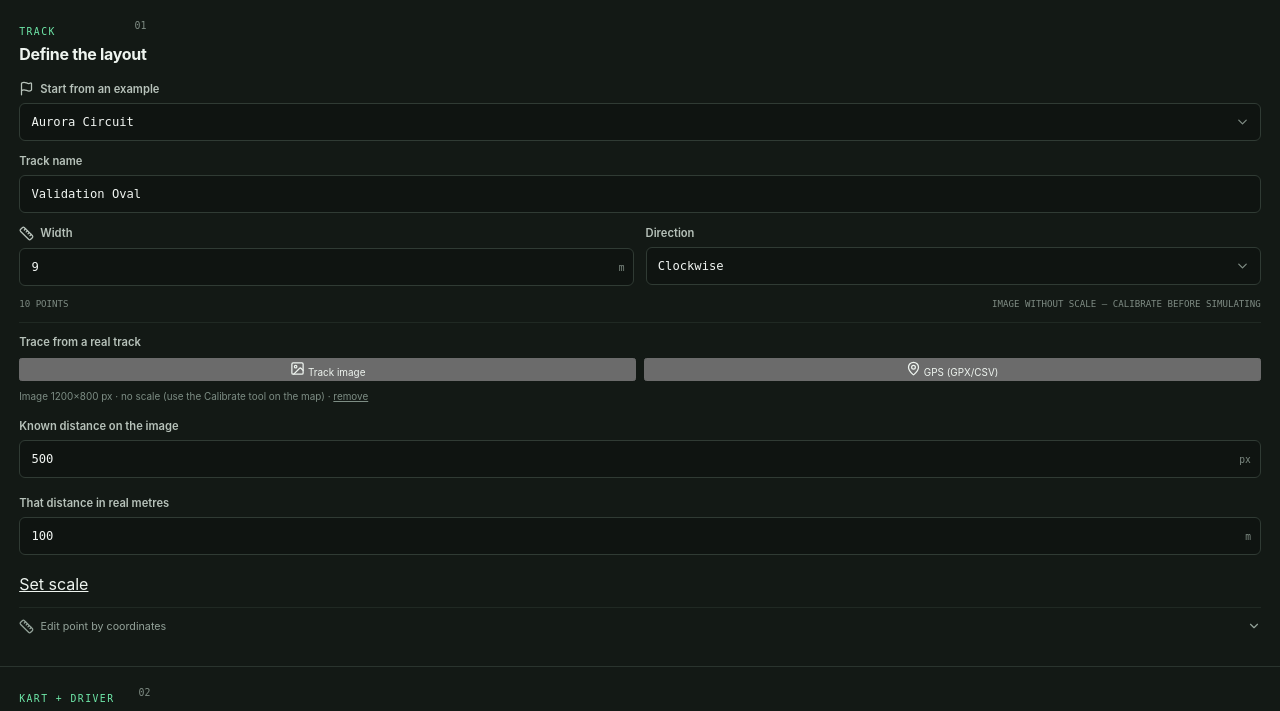
Test: ControlPanel accessibility › surfaces the reason a calibration was rejected
Click the button "Set scale".
click(54, 584)  # box x1=19 y1=574 x2=88 y2=594
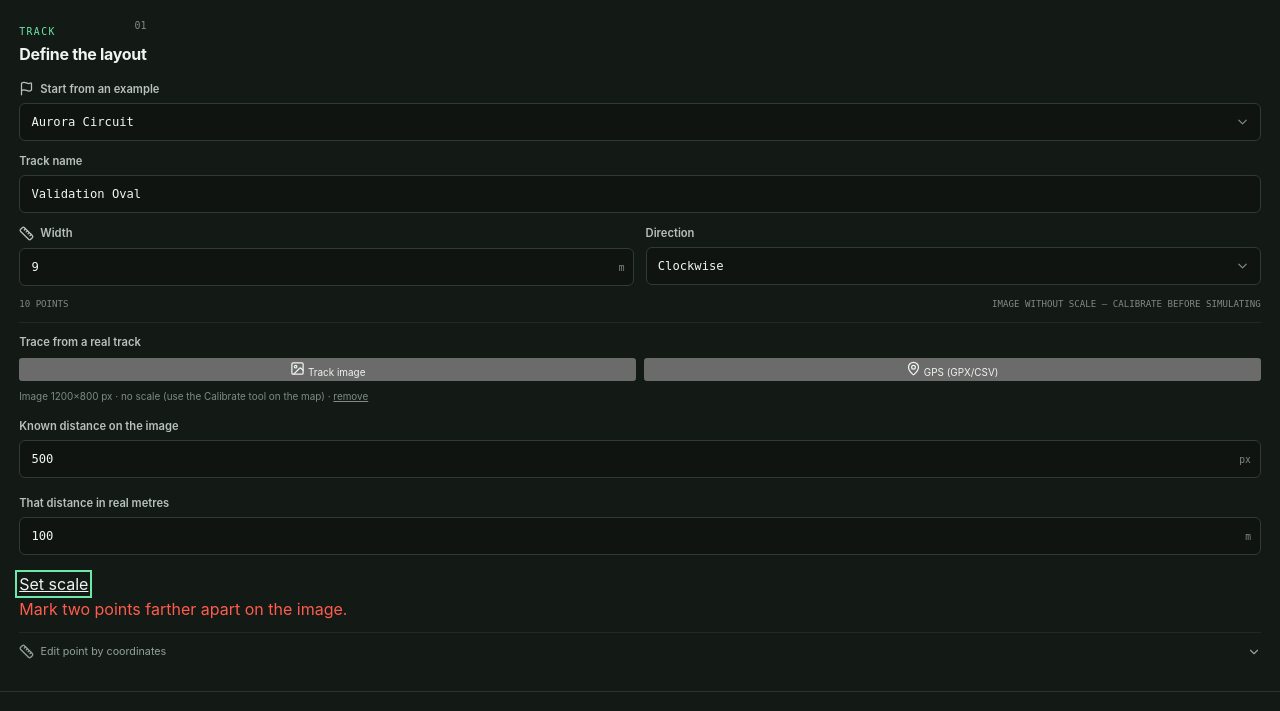
Expected: the message does not show "imports.", x1=19 y1=599 x2=347 y2=619
Expected: the message shows "farther apart", x1=19 y1=599 x2=347 y2=619
